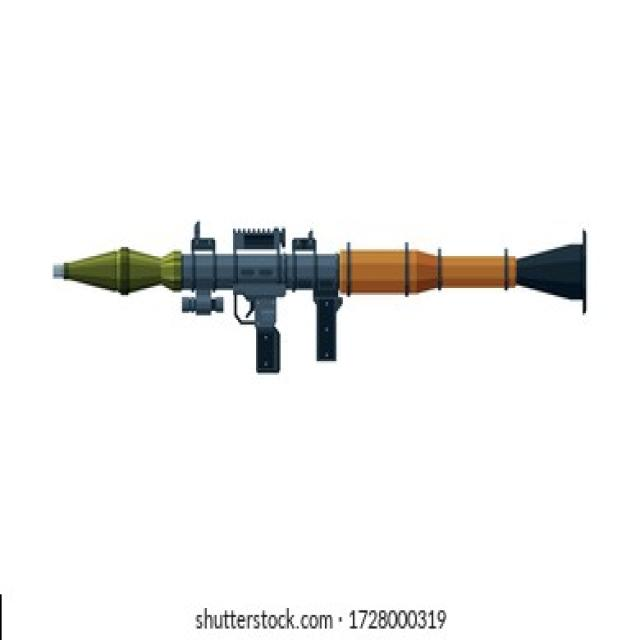bazooka: (7, 207, 610, 358)
